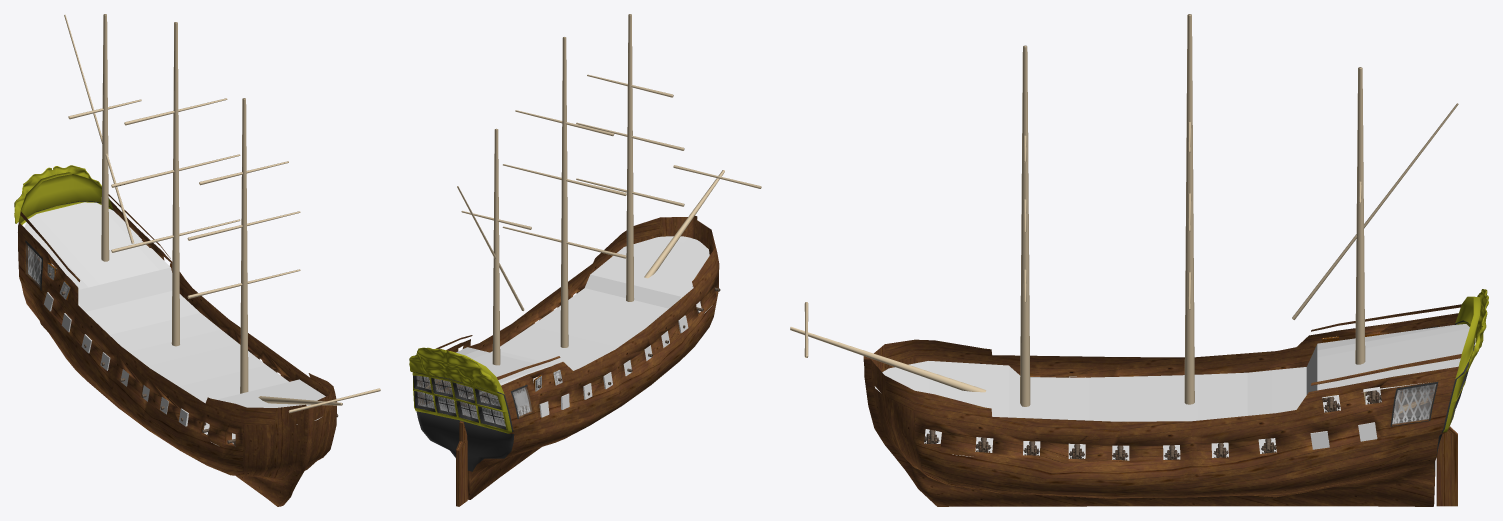
File: modele.glb
3 renders of one model, left to right at view 1: azimuth 30°, elevation 25°; view 2: azimuth 150°, elevation 25°; view 3: azimuth 270°, elevation 25°, orthographic. The views are drawn at different scales.
Visible parts, largest first — view 1: Coque, pont, GrandMat, Misaine, Artimon, Coque.011, Antenne, Beaupre; view 2: Coque, pont, GrandMat, Misaine, Coque.011, Artimon, rudder, Beaupre; view 3: Coque, pont, GrandMat, Misaine, Artimon, rudder, Beaupre, Plane, Antenne.
Boxes of the visible parts, bbox=[...] form: Coque: bbox=[18, 172, 336, 506]; pont: bbox=[24, 202, 325, 424]; GrandMat: bbox=[111, 22, 240, 346]; Misaine: bbox=[187, 98, 300, 393]; Artimon: bbox=[68, 14, 141, 261]; Coque.011: bbox=[14, 165, 101, 223]; Antenne: bbox=[64, 14, 134, 243]; Beaupre: bbox=[258, 396, 342, 405]; Coque: bbox=[412, 216, 719, 499]; pont: bbox=[456, 236, 709, 385]; GrandMat: bbox=[502, 37, 626, 347]; Misaine: bbox=[576, 14, 684, 301]; Coque.011: bbox=[409, 347, 497, 392]; Artimon: bbox=[461, 128, 531, 365]; rudder: bbox=[456, 421, 467, 506]; Beaupre: bbox=[644, 170, 724, 278]; Coque: bbox=[863, 296, 1480, 506]; pont: bbox=[874, 324, 1469, 421]; GrandMat: bbox=[1184, 14, 1194, 404]; Misaine: bbox=[1020, 45, 1030, 406]; Artimon: bbox=[1355, 67, 1365, 403]; rudder: bbox=[1436, 426, 1457, 506]; Beaupre: bbox=[790, 327, 986, 392]; Plane: bbox=[924, 389, 1381, 460]; Antenne: bbox=[1292, 103, 1458, 319].
Size of the model in its own units: 8.55 by 25.97 by 33.56.
10 materials, 5 textured.
